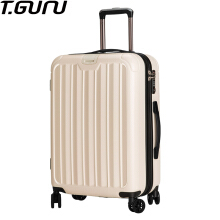luggage: (47, 8, 163, 213)
